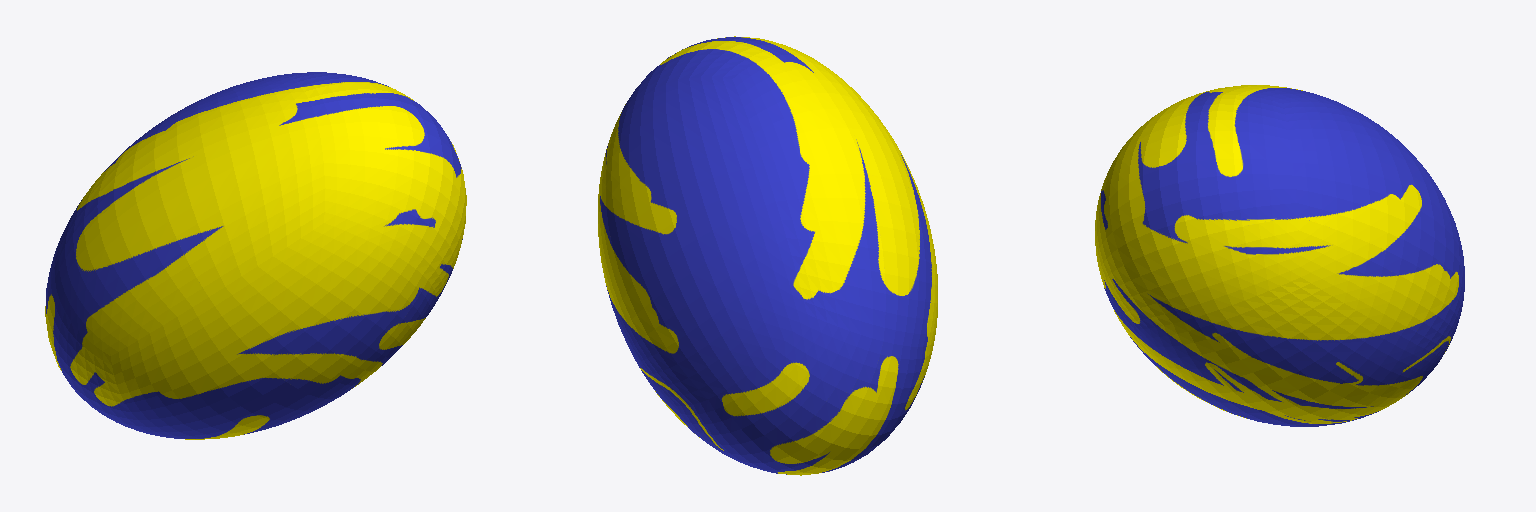
The picture shows the model from 3 angles: view 1: azimuth 30°, elevation 25°; view 2: azimuth 150°, elevation 25°; view 3: azimuth 270°, elevation 25°; orthographic projection.
Visible parts, largest first — view 1: Object.1; view 2: Object.1; view 3: Object.1.
Part boxes in pixels (x1,y1,x2,y2): Object.1: (45,72,466,439); Object.1: (598,36,937,475); Object.1: (1095,85,1464,426).
Bounding box in the file's own units: 0.4957 × 0.4944 × 0.4739.
Materials: 1 (1 with a texture image).